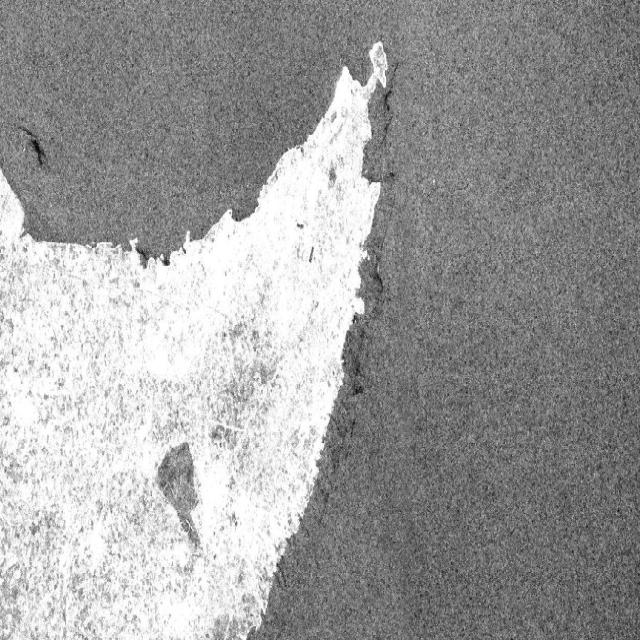look-alike: (16, 107, 55, 178)
